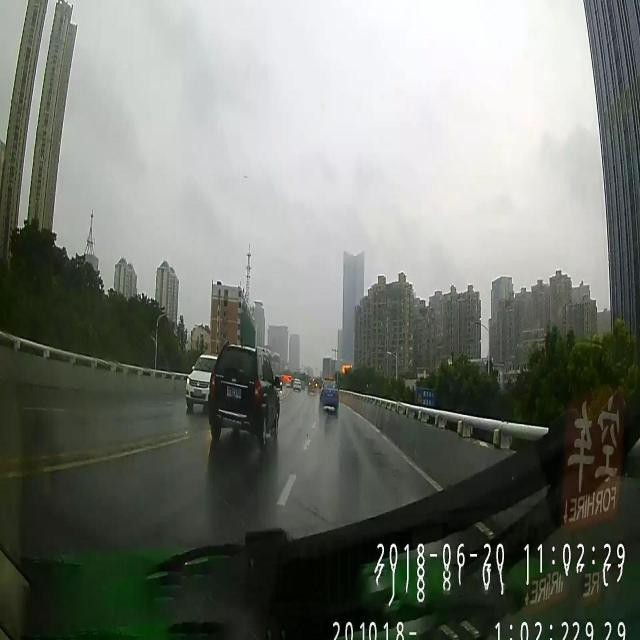car: (208, 338, 280, 446), (184, 352, 220, 411), (320, 376, 340, 416), (308, 376, 318, 396), (292, 374, 302, 392)
